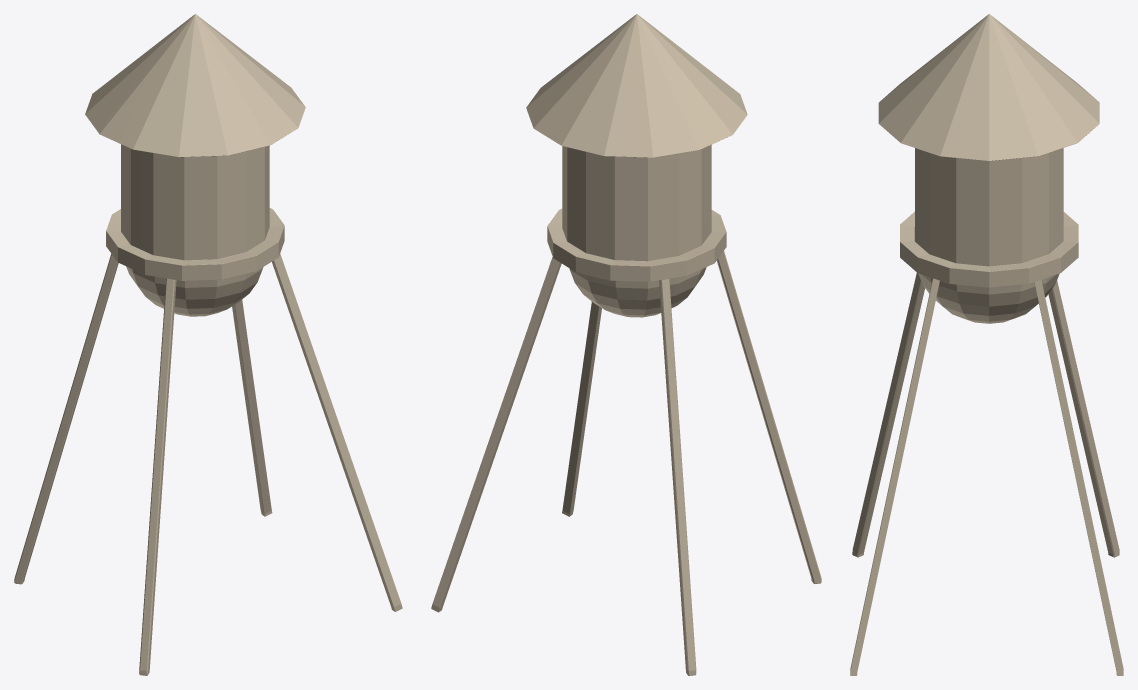
Rendered from Sylo.fbx.
3 views of the same model, side by side, from view 1: azimuth 30°, elevation 25°; view 2: azimuth 150°, elevation 25°; view 3: azimuth 270°, elevation 25° (orthographic). The views are drawn at different scales.
Visible parts, largest first — view 1: Sylo; view 2: Sylo; view 3: Sylo.
Part boxes in pixels (bbox=[...]): Sylo: bbox=[14, 14, 402, 675]; Sylo: bbox=[431, 14, 821, 675]; Sylo: bbox=[850, 14, 1123, 675].
Bounding box in the file's own units: 5.66 × 12.19 × 5.05.
